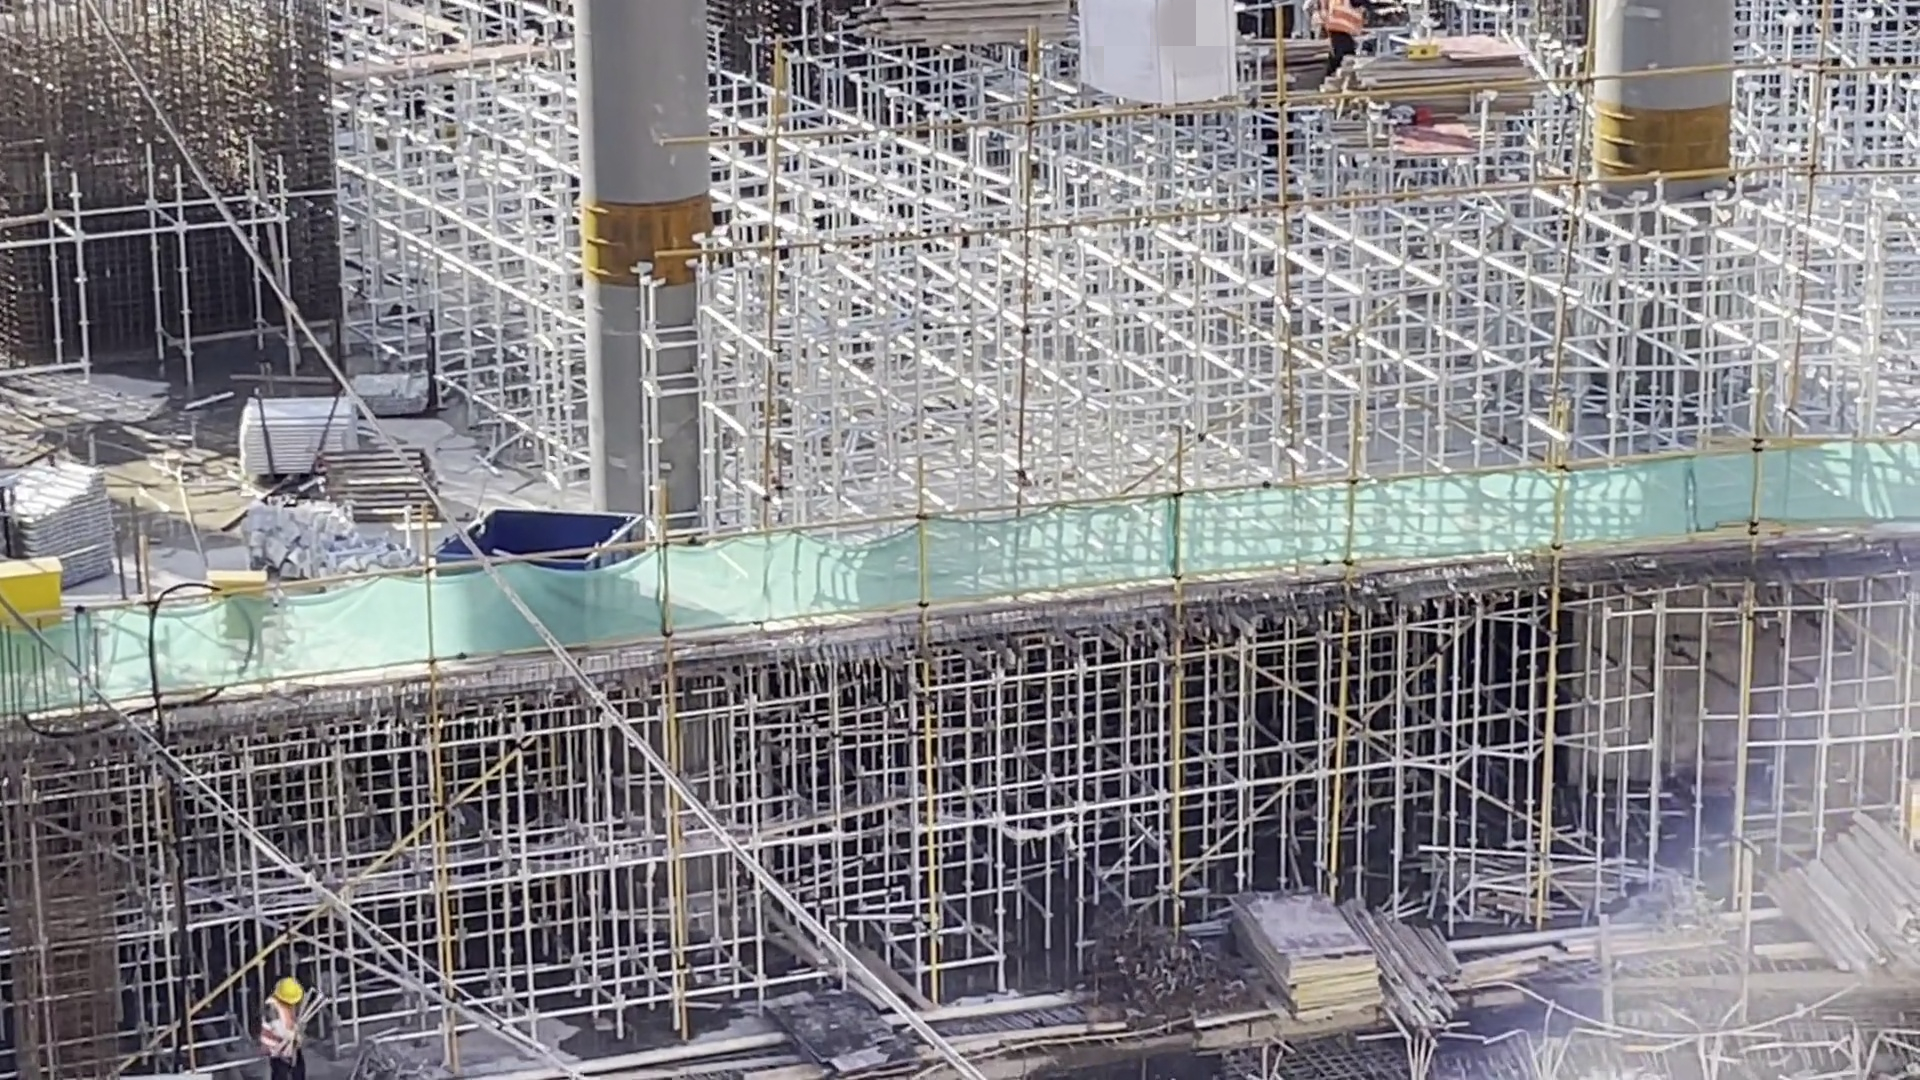board: (1223, 876, 1373, 1047), (1363, 37, 1524, 121)
ebox: (1, 549, 104, 679), (201, 567, 298, 637)
helmet: (278, 972, 303, 994)
hopper: (426, 489, 666, 644)
person: (269, 973, 325, 1080), (1341, 1, 1363, 70), (1320, 1, 1333, 33)
scaffold: (8, 462, 136, 596), (234, 397, 366, 489)
vest: (266, 1009, 299, 1061), (1338, 1, 1359, 38), (1317, 1, 1328, 29)
wood: (1823, 797, 1920, 935), (881, 1, 1051, 49)
